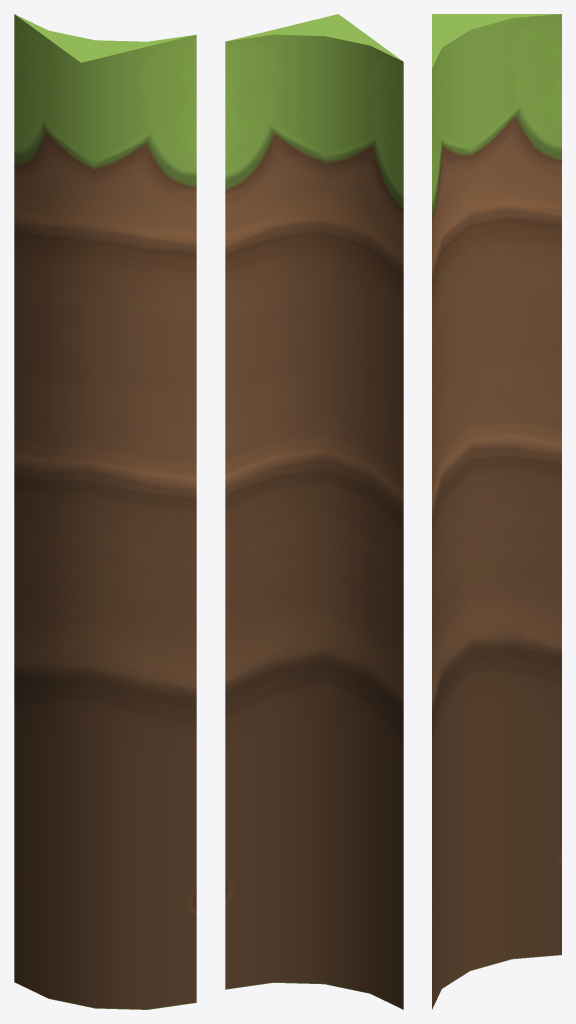
File: GrassTiles_Konkav.fbx
The picture shows the model from 3 angles, left to right: view 1: azimuth 30°, elevation 25°; view 2: azimuth 210°, elevation 25°; view 3: azimuth 270°, elevation 25°; orthographic projection. The views are drawn at different scales.
Parts seen in each view (by area): view 1: GrassTile_Konkav; view 2: GrassTile_Konkav; view 3: GrassTile_Konkav.
Part boxes in pixels (box(x1,y1,x2,y2)): GrassTile_Konkav: box(14, 14, 196, 1009); GrassTile_Konkav: box(225, 14, 403, 1009); GrassTile_Konkav: box(432, 14, 561, 1009).
Size of the model in its own units: 25 by 200 by 25.
